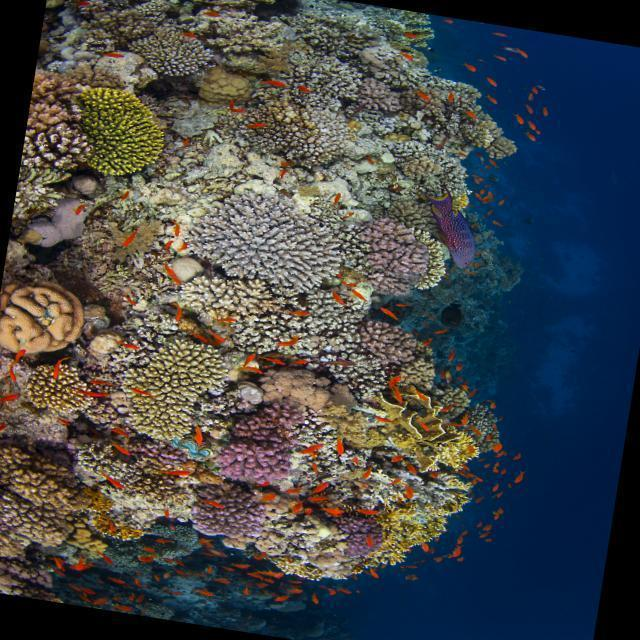Healthy Coral: (172, 182, 353, 303), (0, 421, 105, 578), (200, 381, 311, 491), (0, 275, 90, 397), (75, 81, 166, 183), (363, 208, 460, 298), (239, 89, 344, 156), (375, 384, 443, 462), (191, 484, 261, 539), (195, 57, 258, 115), (137, 29, 207, 79), (357, 314, 418, 369), (341, 72, 408, 117), (343, 516, 381, 564)
